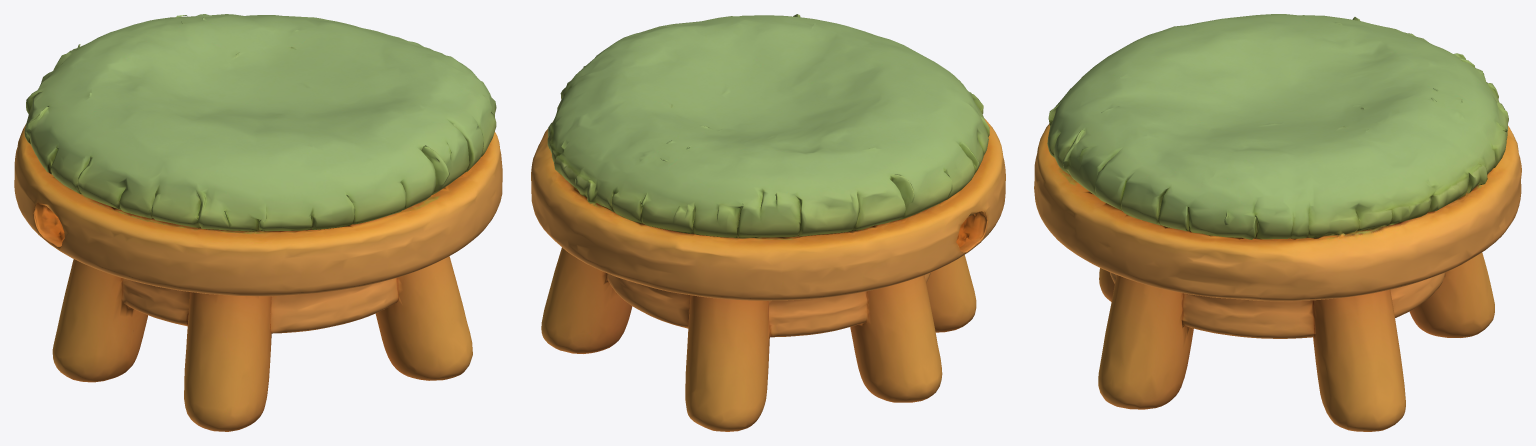
The model's file is restaurant-stool.glb.
3 renders of one model, left to right at view 1: azimuth 30°, elevation 25°; view 2: azimuth 150°, elevation 25°; view 3: azimuth 270°, elevation 25°, orthographic. The views are drawn at different scales.
Visible parts, largest first — view 1: tripo_node_278ab269-0241-40cd-a230-9b88d3e071ae; view 2: tripo_node_278ab269-0241-40cd-a230-9b88d3e071ae; view 3: tripo_node_278ab269-0241-40cd-a230-9b88d3e071ae.
Boxes of the visible parts, left/top/right/bottom form: tripo_node_278ab269-0241-40cd-a230-9b88d3e071ae: left=14, top=14, right=502, bottom=431; tripo_node_278ab269-0241-40cd-a230-9b88d3e071ae: left=531, top=14, right=1005, bottom=431; tripo_node_278ab269-0241-40cd-a230-9b88d3e071ae: left=1034, top=14, right=1521, bottom=431.
Bounding box in the file's own units: 0.9929 × 0.593 × 1.
1 material, 1 textured.
